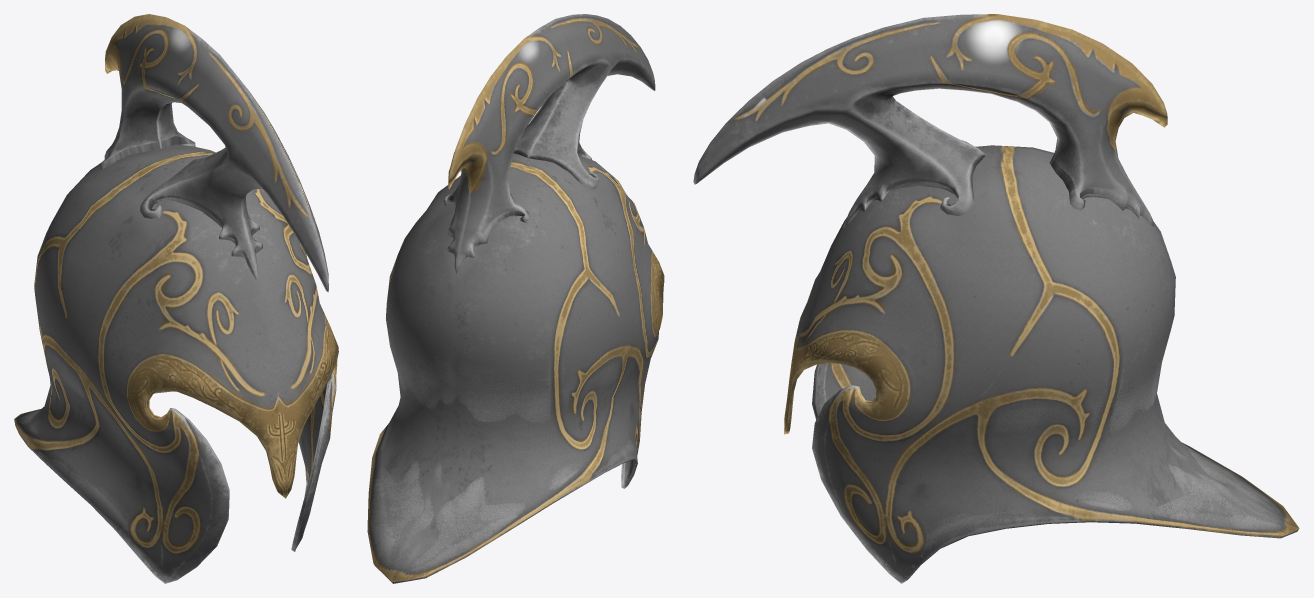
File: rivendell_helmet_infantry_tier3_silvergold.fbx
3 views of the same model, side by side, from view 1: azimuth 30°, elevation 25°; view 2: azimuth 150°, elevation 25°; view 3: azimuth 270°, elevation 25° (orthographic). The views are drawn at different scales.
Visible parts, largest first — view 1: rivendell_helmet_infantry_tier3_silvergold.1, rivendell_helmet_infantry_tier3_silvergold.0; view 2: rivendell_helmet_infantry_tier3_silvergold.1, rivendell_helmet_infantry_tier3_silvergold.0; view 3: rivendell_helmet_infantry_tier3_silvergold.1, rivendell_helmet_infantry_tier3_silvergold.0.
Boxes of the visible parts, bbox=[...] form: rivendell_helmet_infantry_tier3_silvergold.1: bbox=[14, 144, 338, 583]; rivendell_helmet_infantry_tier3_silvergold.0: bbox=[100, 14, 328, 292]; rivendell_helmet_infantry_tier3_silvergold.1: bbox=[367, 153, 664, 583]; rivendell_helmet_infantry_tier3_silvergold.0: bbox=[443, 14, 655, 273]; rivendell_helmet_infantry_tier3_silvergold.1: bbox=[784, 145, 1299, 583]; rivendell_helmet_infantry_tier3_silvergold.0: bbox=[693, 14, 1167, 227].
Bounding box in the file's own units: 0.2002 × 0.4296 × 0.4196.
Materials: 2 (2 with a texture image).
